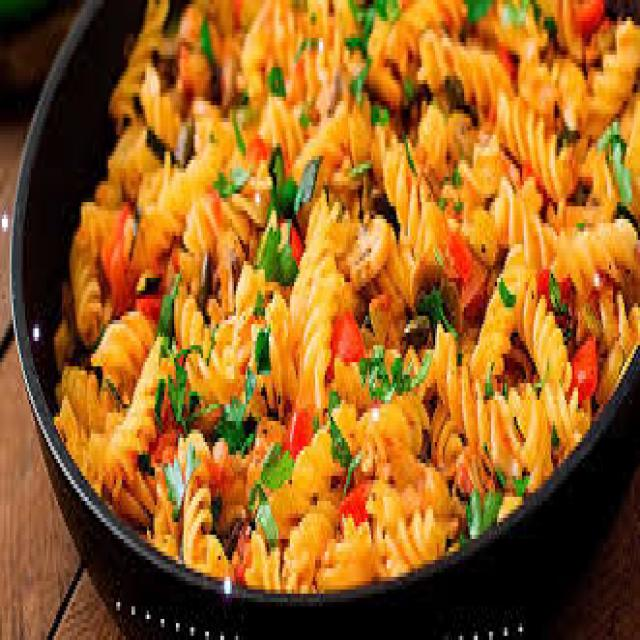pasta: (75, 4, 629, 602)
